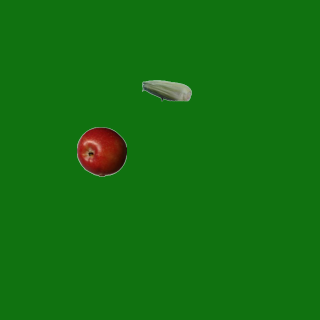Apple Braeburn: (76, 126, 126, 176)
Corn Husk: (141, 65, 191, 115)
